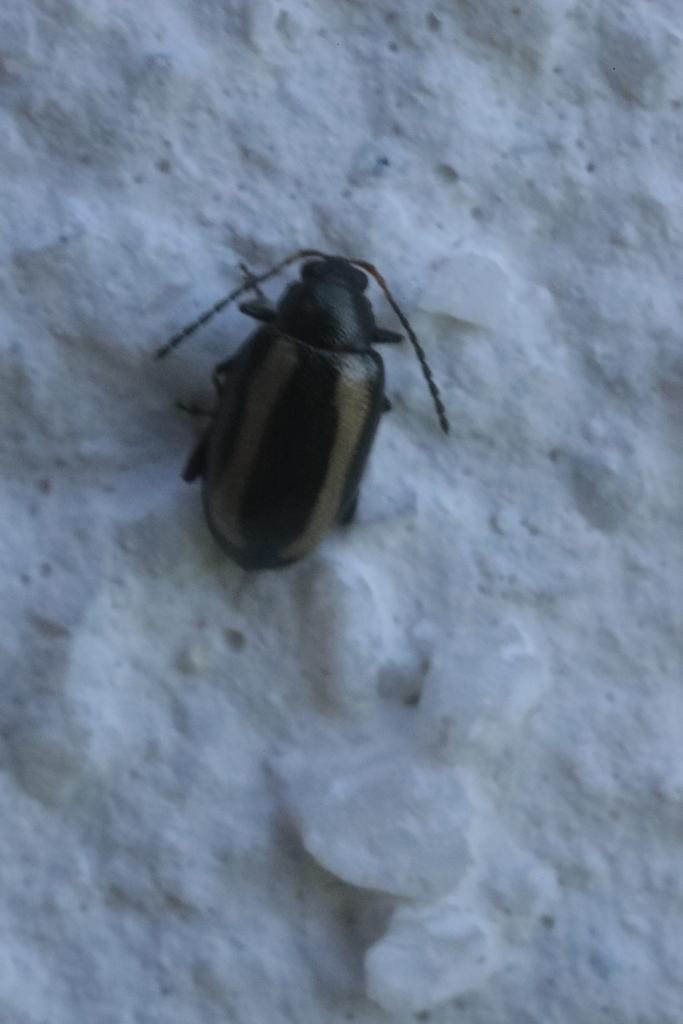flea_beetle: (113, 159, 495, 622)
